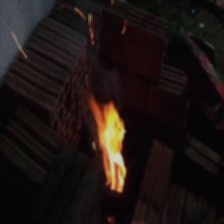fire: (82, 91, 135, 204)
